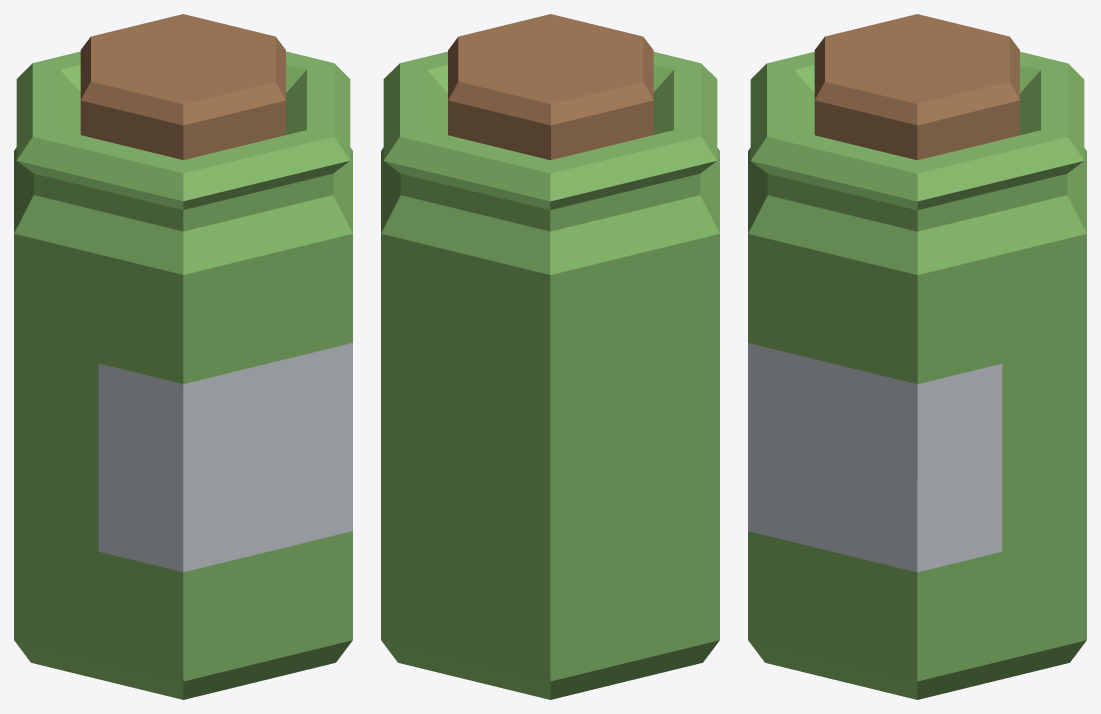
File: Green_Potion_2.(Label).fbx
The picture shows the model from 3 angles, left to right: view 1: azimuth 30°, elevation 25°; view 2: azimuth 150°, elevation 25°; view 3: azimuth 270°, elevation 25°; orthographic projection.
Parts seen in each view (by area): view 1: Green_Potion_2.(Label); view 2: Green_Potion_2.(Label); view 3: Green_Potion_2.(Label).
Boxes of the visible parts, left/top/right/bottom form: Green_Potion_2.(Label): left=14, top=14, right=352, bottom=699; Green_Potion_2.(Label): left=381, top=14, right=719, bottom=699; Green_Potion_2.(Label): left=748, top=14, right=1086, bottom=699.
Size of the model in its own units: 23.02 by 36.77 by 19.94.
